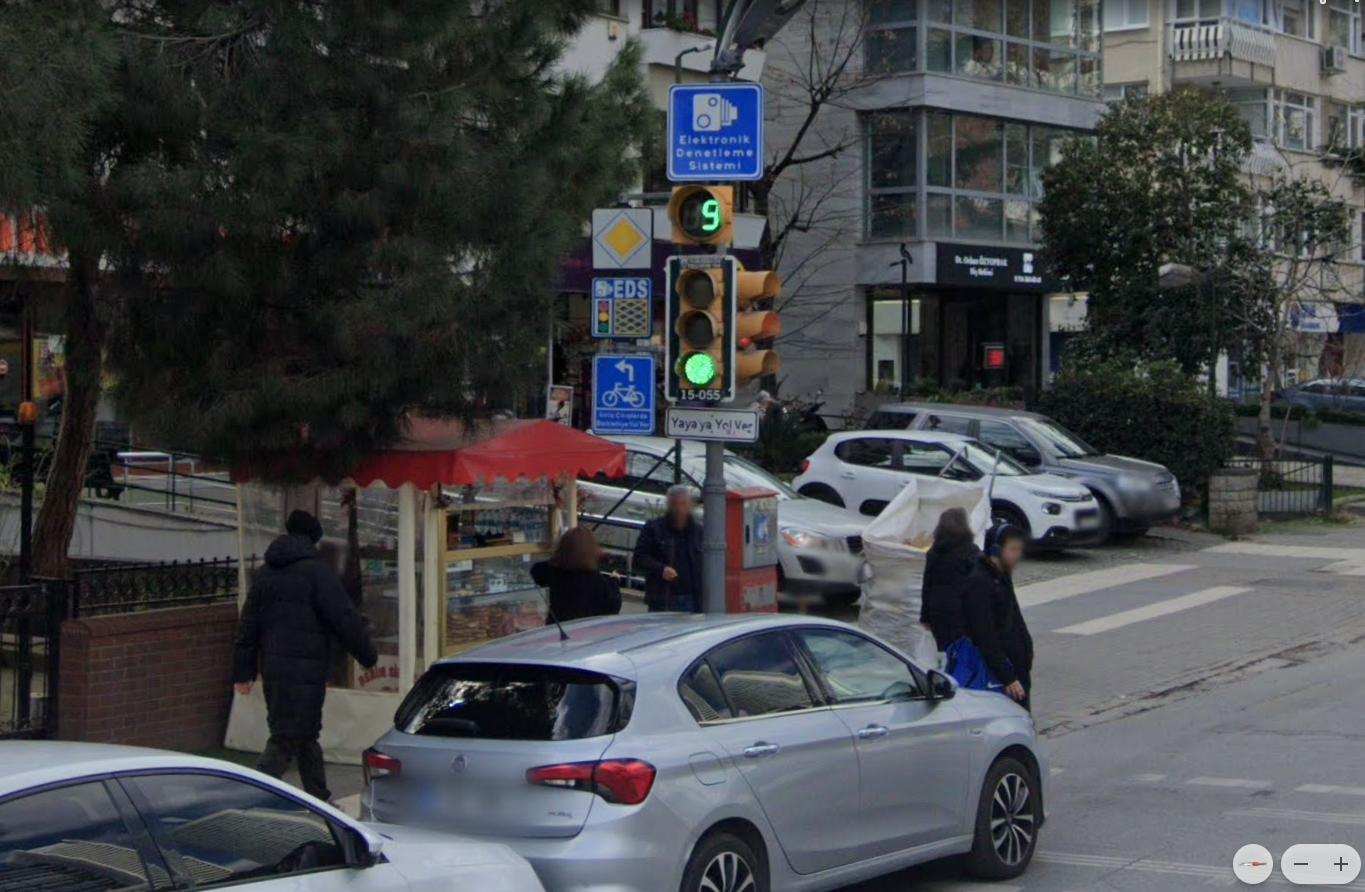greenlight: (666, 257, 731, 396)
